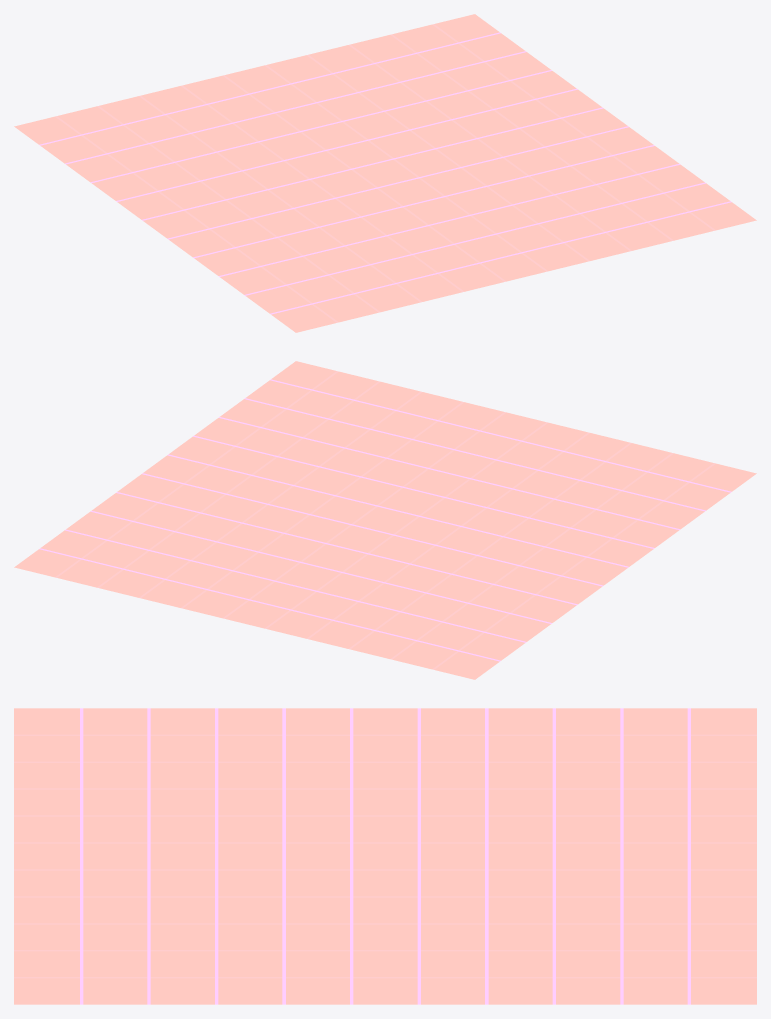
The model's file is RedEnd.fbx.
3 views of the same model, one above another, from view 1: azimuth 30°, elevation 25°; view 2: azimuth 150°, elevation 25°; view 3: azimuth 270°, elevation 25° (orthographic). The views are drawn at different scales.
Parts seen in each view (by area): view 1: Plane; view 2: Plane; view 3: Plane.
Part boxes in pixels (x1=…): Plane: x1=14, y1=14, x2=756, y2=332; Plane: x1=14, y1=361, x2=756, y2=679; Plane: x1=14, y1=708, x2=756, y2=1004.
Bounding box in the file's own units: 6990 × 0 × 7406.
